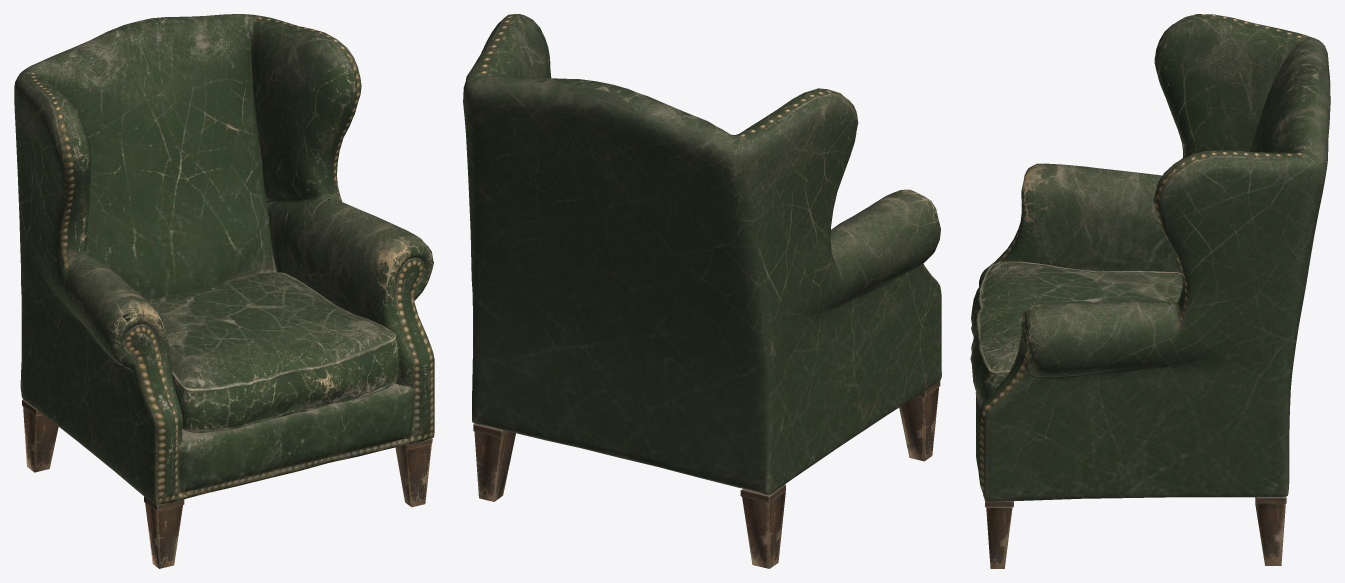
Rendered from skyways-d-bk-armchair.glb.
3 renders of one model, left to right at view 1: azimuth 30°, elevation 25°; view 2: azimuth 150°, elevation 25°; view 3: azimuth 270°, elevation 25°, orthographic. The views are drawn at different scales.
Visible parts, largest first — view 1: skyways-d-bk-armchair; view 2: skyways-d-bk-armchair; view 3: skyways-d-bk-armchair.
Part boxes in pixels (left/top/right/bottom): skyways-d-bk-armchair: left=14, top=14, right=434, bottom=568; skyways-d-bk-armchair: left=463, top=14, right=941, bottom=568; skyways-d-bk-armchair: left=970, top=14, right=1330, bottom=568.
Size of the model in its own units: 0.9266 by 1.1 by 0.8442.
Materials: 1 (1 with a texture image).
